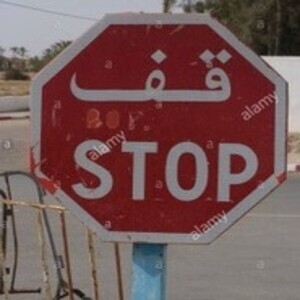stop: (30, 12, 288, 244)
